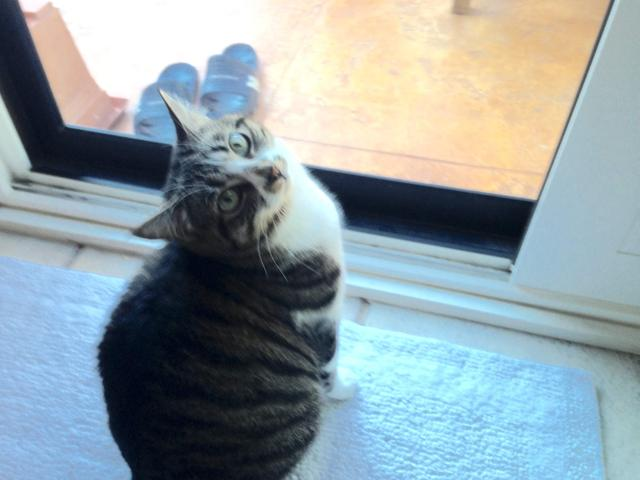playdoh: (96, 89, 359, 480)
